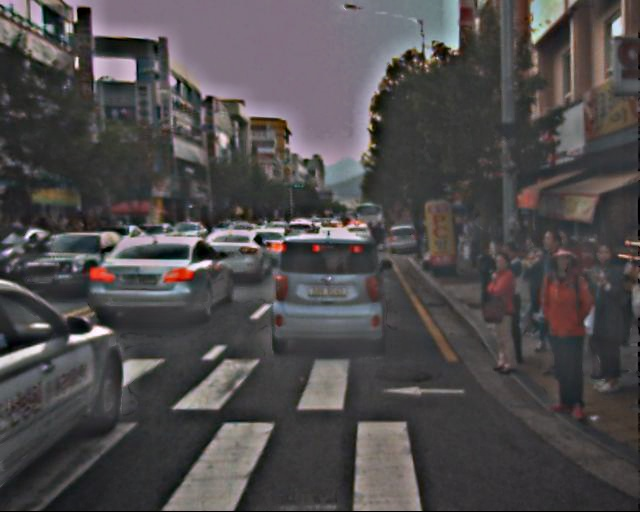person: (533, 249, 602, 417), (569, 243, 631, 395), (523, 232, 582, 376), (480, 258, 527, 372), (512, 239, 557, 349), (465, 220, 487, 273)
